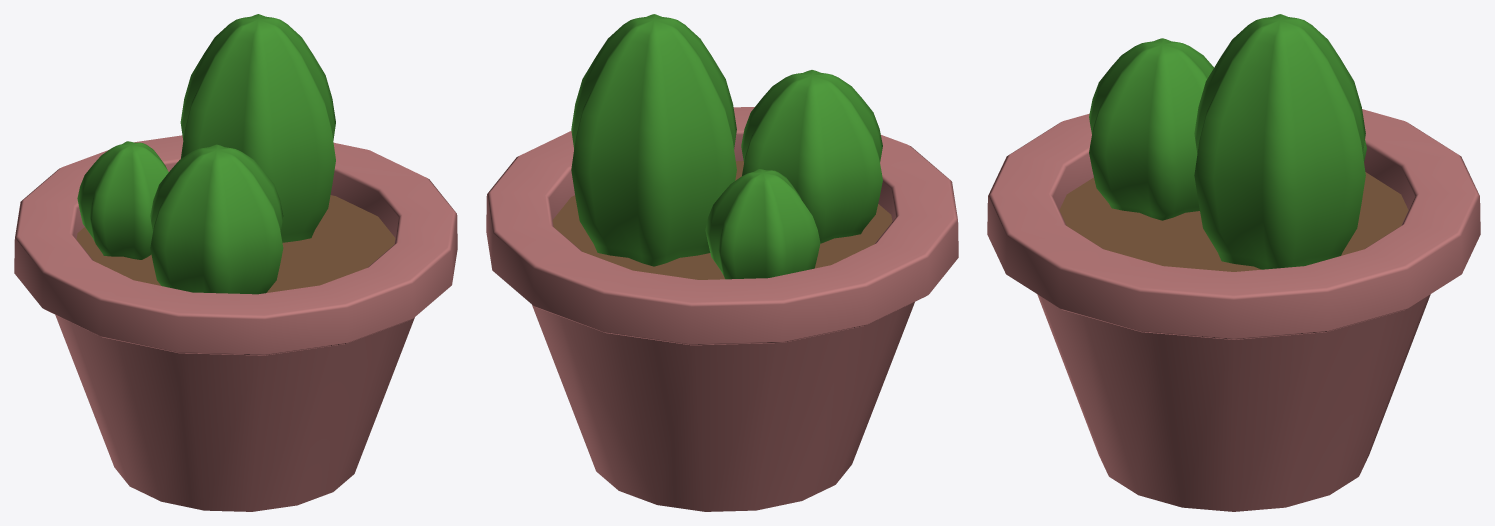
File: Cactus_3.glb
3 views of the same model, side by side, from view 1: azimuth 30°, elevation 25°; view 2: azimuth 150°, elevation 25°; view 3: azimuth 270°, elevation 25° (orthographic). The views are drawn at different scales.
Parts seen in each view (by area): view 1: Cactus_3; view 2: Cactus_3; view 3: Cactus_3.
Boxes of the visible parts, x1,y1,x2,y2 form: Cactus_3: [14, 14, 457, 511]; Cactus_3: [486, 14, 958, 511]; Cactus_3: [987, 14, 1480, 511].
Bounding box in the file's own units: 0.1723 × 0.1776 × 0.1723.
1 material, 1 textured.
